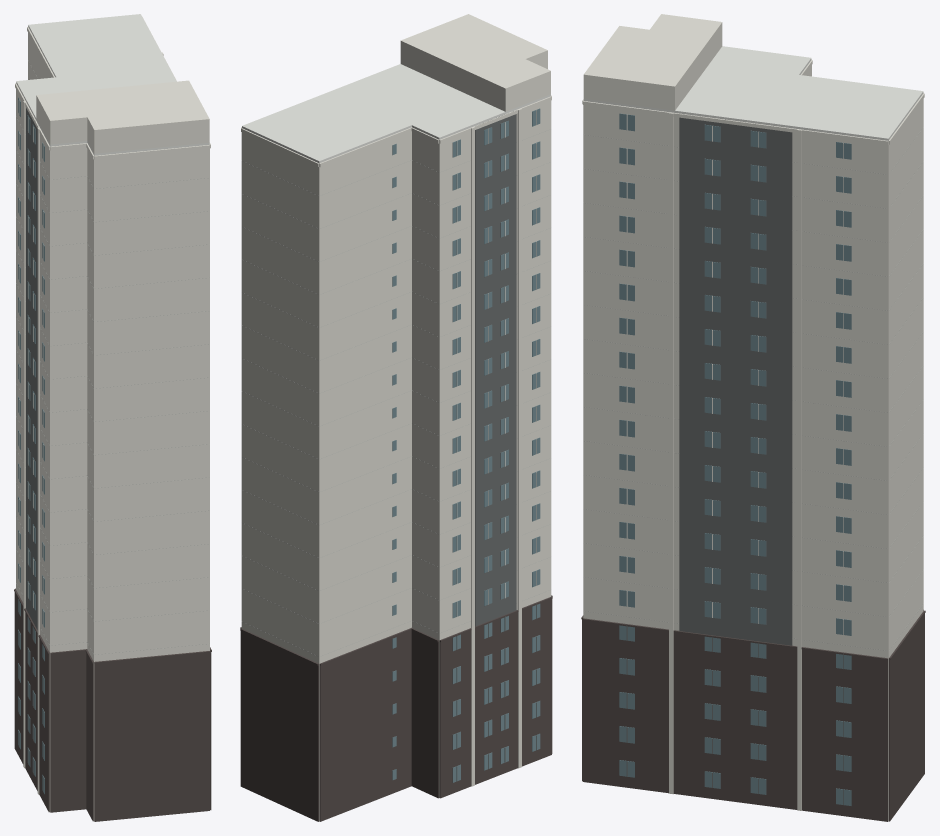
Rendered from bespoke-dh-honor-hills-310.glb.
3 views of the same model, side by side, from view 1: azimuth 30°, elevation 25°; view 2: azimuth 150°, elevation 25°; view 3: azimuth 270°, elevation 25° (orthographic). The views are drawn at different scales.
Parts seen in each view (by area): view 1: Honor310_editable_Honor310_ivory_solid_side_walls, Honor310_editable_Honor310_dark_brown_charcoal_lower_mass, Honor310_editable_Honor310_broad_white_facade_frames, Honor310_editable_Honor310_central_dark_window_bank, Honor310_editable_Honor310_turquoise_balcony_glazing, Honor310_editable_Honor310_light_grey_solid_wall; view 2: Honor310_editable_Honor310_ivory_solid_side_walls, Honor310_editable_Honor310_dark_brown_charcoal_lower_mass, Honor310_editable_Honor310_central_dark_window_bank, Honor310_editable_Honor310_broad_white_facade_frames, Honor310_editable_Honor310_turquoise_balcony_glazing, Honor310_editable_Honor310_light_grey_solid_wall; view 3: Honor310_editable_Honor310_ivory_solid_side_walls, Honor310_editable_Honor310_central_dark_window_bank, Honor310_editable_Honor310_dark_brown_charcoal_lower_mass, Honor310_editable_Honor310_turquoise_balcony_glazing, Honor310_editable_Honor310_broad_white_facade_frames, Honor310_editable_Honor310_light_grey_solid_wall.
Part boxes in pixels (bbox=[...]): Honor310_editable_Honor310_ivory_solid_side_walls: bbox=[15, 17, 210, 820]; Honor310_editable_Honor310_dark_brown_charcoal_lower_mass: bbox=[14, 588, 211, 821]; Honor310_editable_Honor310_broad_white_facade_frames: bbox=[16, 14, 209, 155]; Honor310_editable_Honor310_central_dark_window_bank: bbox=[18, 108, 43, 791]; Honor310_editable_Honor310_turquoise_balcony_glazing: bbox=[18, 97, 44, 793]; Honor310_editable_Honor310_light_grey_solid_wall: bbox=[16, 60, 208, 654]; Honor310_editable_Honor310_ivory_solid_side_walls: bbox=[241, 14, 551, 821]; Honor310_editable_Honor310_dark_brown_charcoal_lower_mass: bbox=[240, 595, 552, 821]; Honor310_editable_Honor310_central_dark_window_bank: bbox=[456, 111, 536, 781]; Honor310_editable_Honor310_broad_white_facade_frames: bbox=[242, 64, 550, 163]; Honor310_editable_Honor310_turquoise_balcony_glazing: bbox=[392, 108, 540, 782]; Honor310_editable_Honor310_light_grey_solid_wall: bbox=[242, 129, 550, 656]; Honor310_editable_Honor310_ivory_solid_side_walls: bbox=[582, 14, 924, 821]; Honor310_editable_Honor310_central_dark_window_bank: bbox=[626, 114, 843, 805]; Honor310_editable_Honor310_dark_brown_charcoal_lower_mass: bbox=[581, 610, 925, 821]; Honor310_editable_Honor310_turquoise_balcony_glazing: bbox=[619, 113, 851, 805]; Honor310_editable_Honor310_broad_white_facade_frames: bbox=[583, 46, 923, 140]; Honor310_editable_Honor310_light_grey_solid_wall: bbox=[584, 128, 922, 650].
Bounding box in the file's own units: 20.04 × 64.45 × 28.46.
